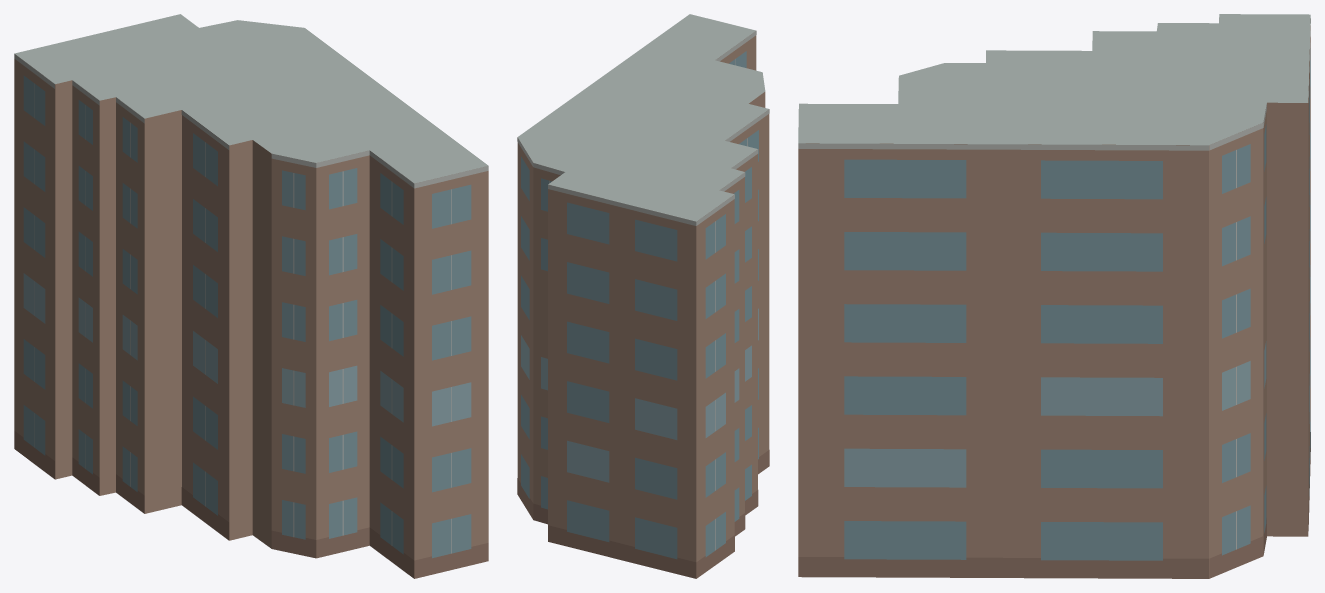
File: survey-upis-32728411.glb
3 views of the same model, side by side, from view 1: azimuth 30°, elevation 25°; view 2: azimuth 150°, elevation 25°; view 3: azimuth 270°, elevation 25° (orthographic). The views are drawn at different scales.
Parts seen in each view (by area): view 1: survey-upis-32728411.tmp; view 2: survey-upis-32728411.tmp; view 3: survey-upis-32728411.tmp.
Boxes of the visible parts, bbox=[...] form: survey-upis-32728411.tmp: bbox=[14, 14, 488, 578]; survey-upis-32728411.tmp: bbox=[517, 14, 769, 578]; survey-upis-32728411.tmp: bbox=[798, 14, 1310, 578].
Size of the model in its own units: 12.6 by 19.4 by 20.79.
